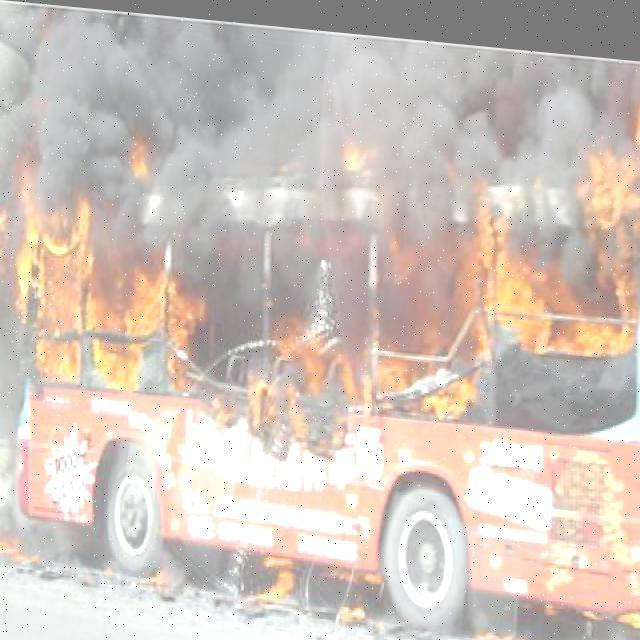Fire: (17, 100, 636, 463)
